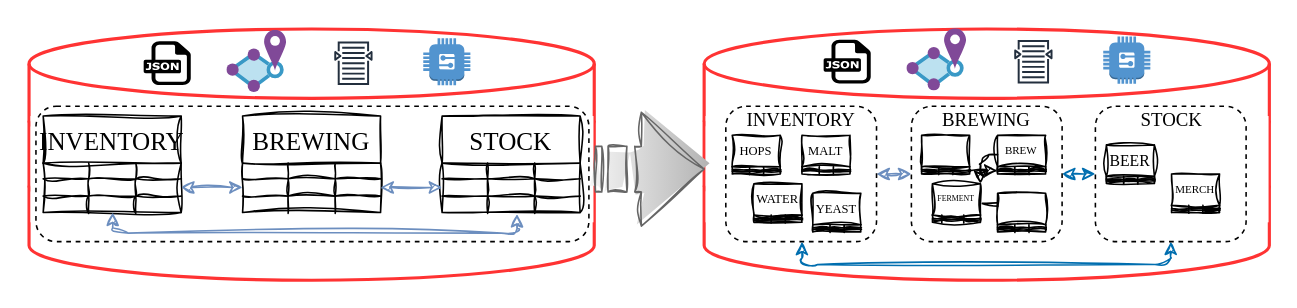
Some shapes in this 1297 by 308 pixel diagram are drawn without their labels. The shapes that lost their labels are listed below. From the top down, each one's centre as x and y in pixels, then its label:
At pixel 945 154: "RECIPIE".
At pixel 1021 212: "BOTTLING".
